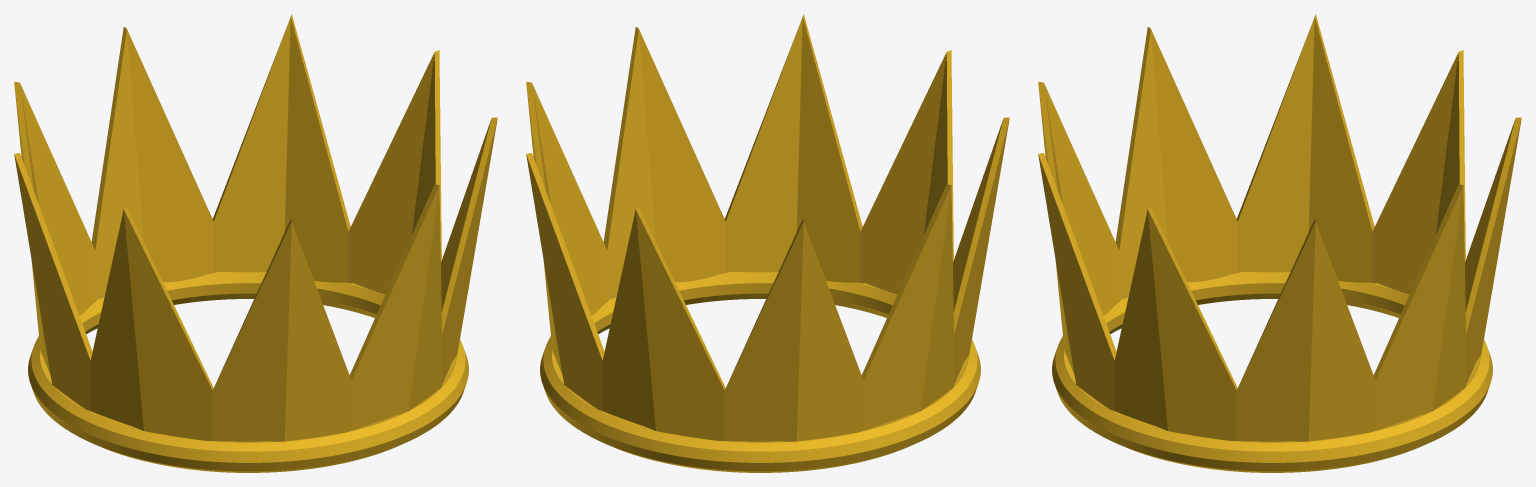
File: KingCrown.fbx
3 views of the same model, side by side, from view 1: azimuth 30°, elevation 25°; view 2: azimuth 150°, elevation 25°; view 3: azimuth 270°, elevation 25° (orthographic).
Parts seen in each view (by area): view 1: King Crown; view 2: King Crown; view 3: King Crown.
Part boxes in pixels (bbox=[...]): King Crown: bbox=[14, 14, 497, 472]; King Crown: bbox=[526, 14, 1009, 472]; King Crown: bbox=[1038, 14, 1521, 472].
Bounding box in the file's own units: 87.55 × 52.53 × 86.22.
